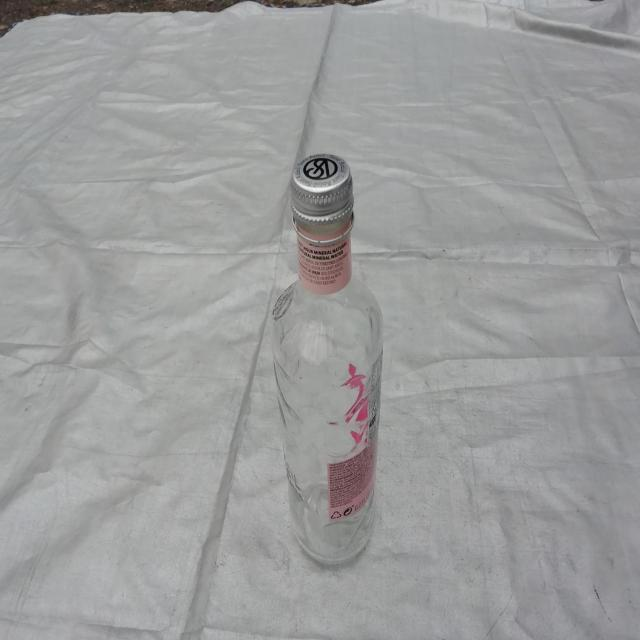glass: (271, 153, 383, 564)
